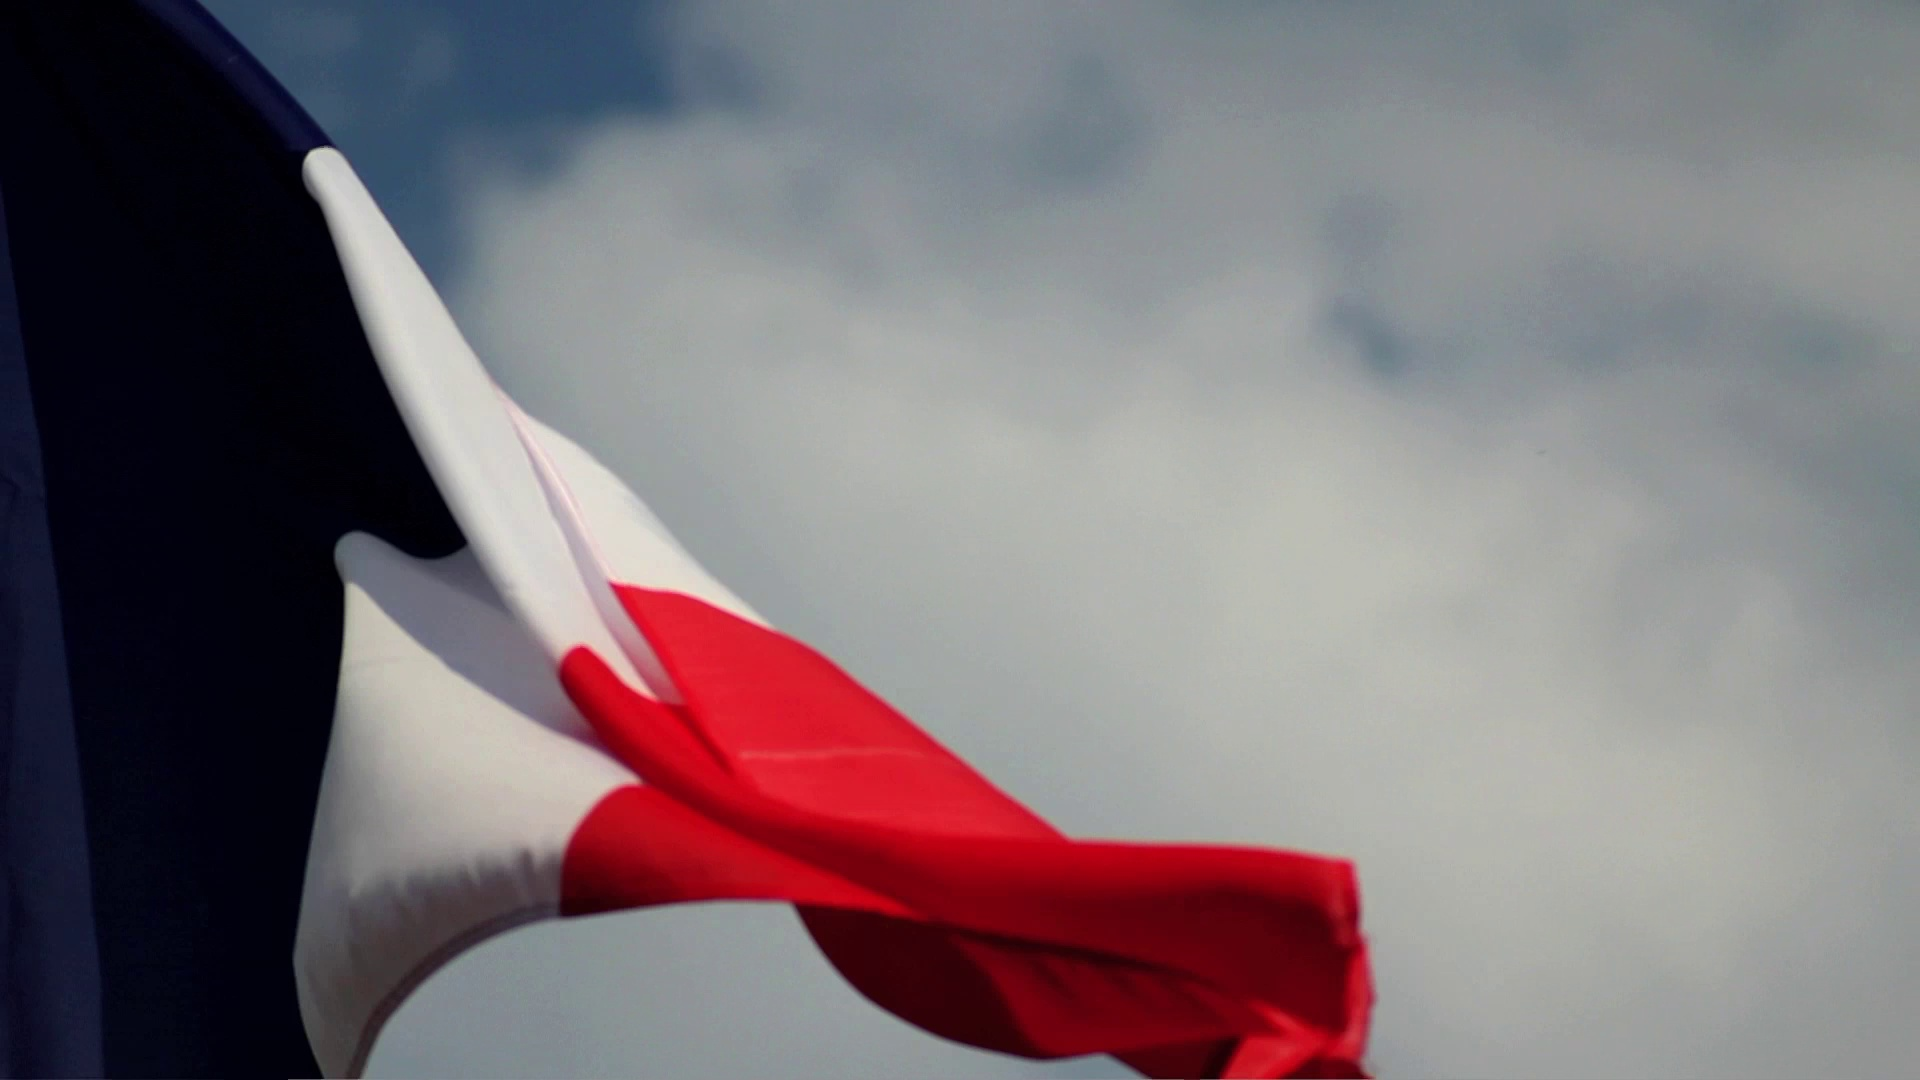French Flag: (1, 1, 1378, 1080)
